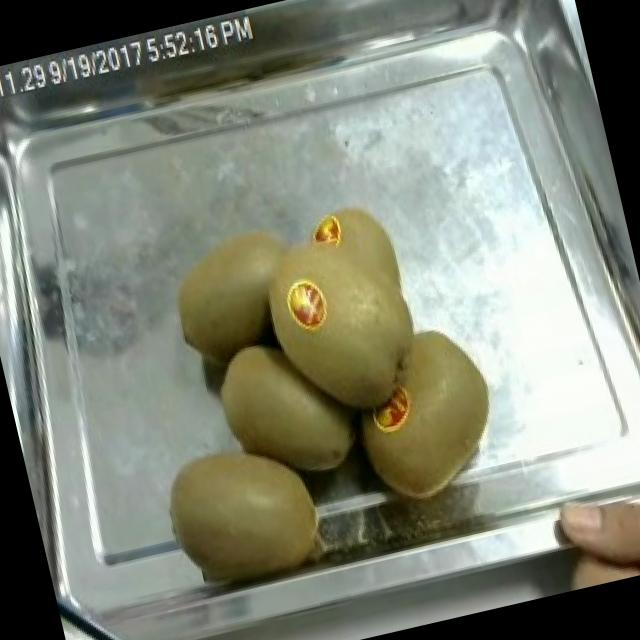Fruit: (247, 182, 448, 440), (327, 304, 520, 512), (198, 313, 374, 500), (150, 422, 338, 596), (533, 446, 640, 592)
